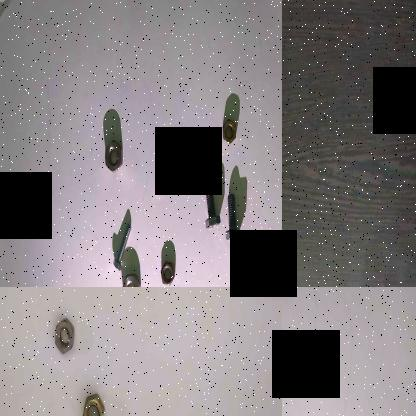Bolts: (223, 189, 245, 247), (113, 216, 135, 271), (203, 176, 221, 235)
NUTS: (51, 316, 76, 362), (101, 134, 127, 178), (157, 155, 177, 191), (220, 111, 236, 153), (81, 388, 105, 416), (157, 258, 177, 287), (119, 269, 143, 287)
